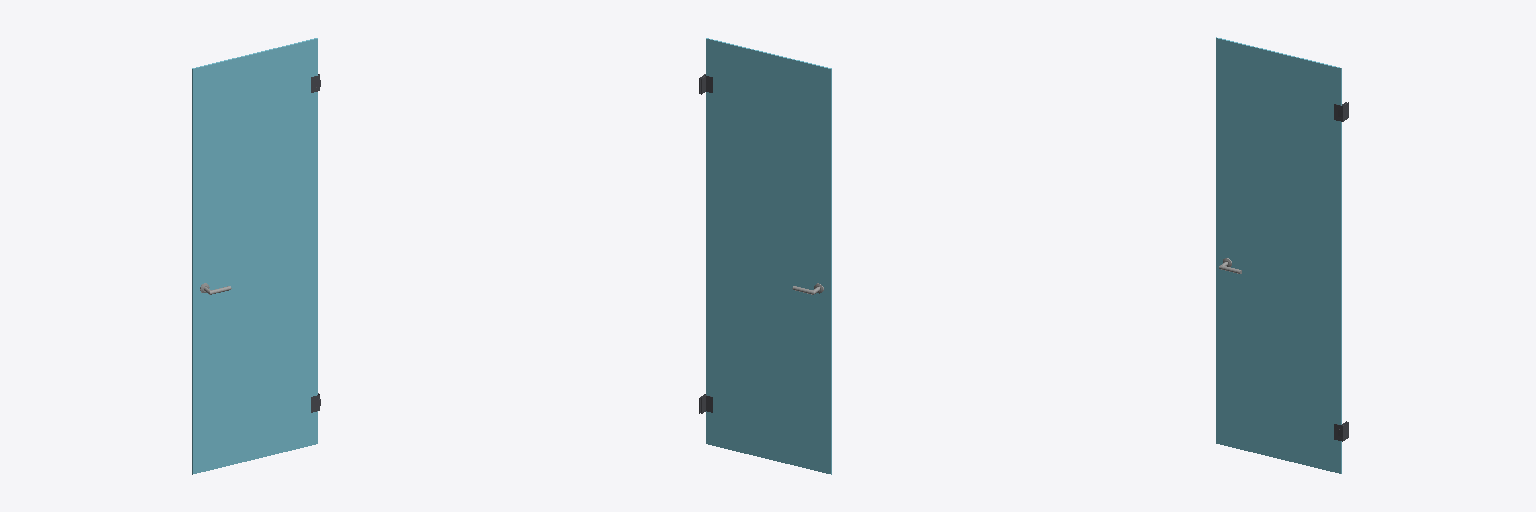
File: Tuere_WC.obj
The picture shows the model from 3 angles: view 1: azimuth 30°, elevation 25°; view 2: azimuth 150°, elevation 25°; view 3: azimuth 330°, elevation 25°; orthographic projection.
Visible parts, largest first — view 1: Mesh1 Component_763 G_21_T_re_WC_dwg1 Model; view 2: Mesh1 Component_763 G_21_T_re_WC_dwg1 Model; view 3: Mesh1 Component_763 G_21_T_re_WC_dwg1 Model.
Boxes of the visible parts, x1=… form: Mesh1 Component_763 G_21_T_re_WC_dwg1 Model: x1=192, y1=38, x2=317, y2=474; Mesh1 Component_763 G_21_T_re_WC_dwg1 Model: x1=706, y1=38, x2=831, y2=474; Mesh1 Component_763 G_21_T_re_WC_dwg1 Model: x1=1216, y1=37, x2=1341, y2=473.
Size of the model in its own units: 75.78 by 230 by 15.86.